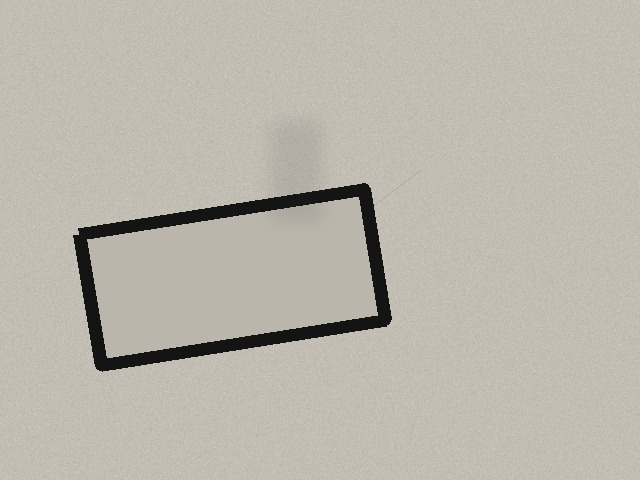parking_area: (79, 189, 385, 365)
